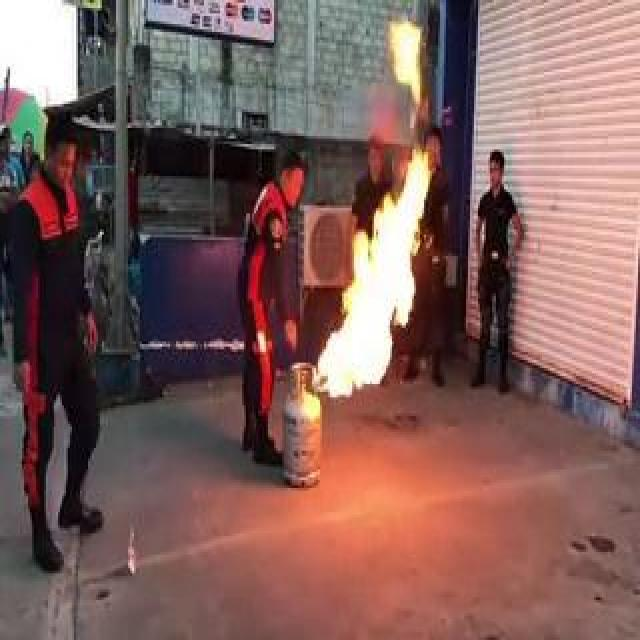Smoke: (319, 135, 435, 399)
